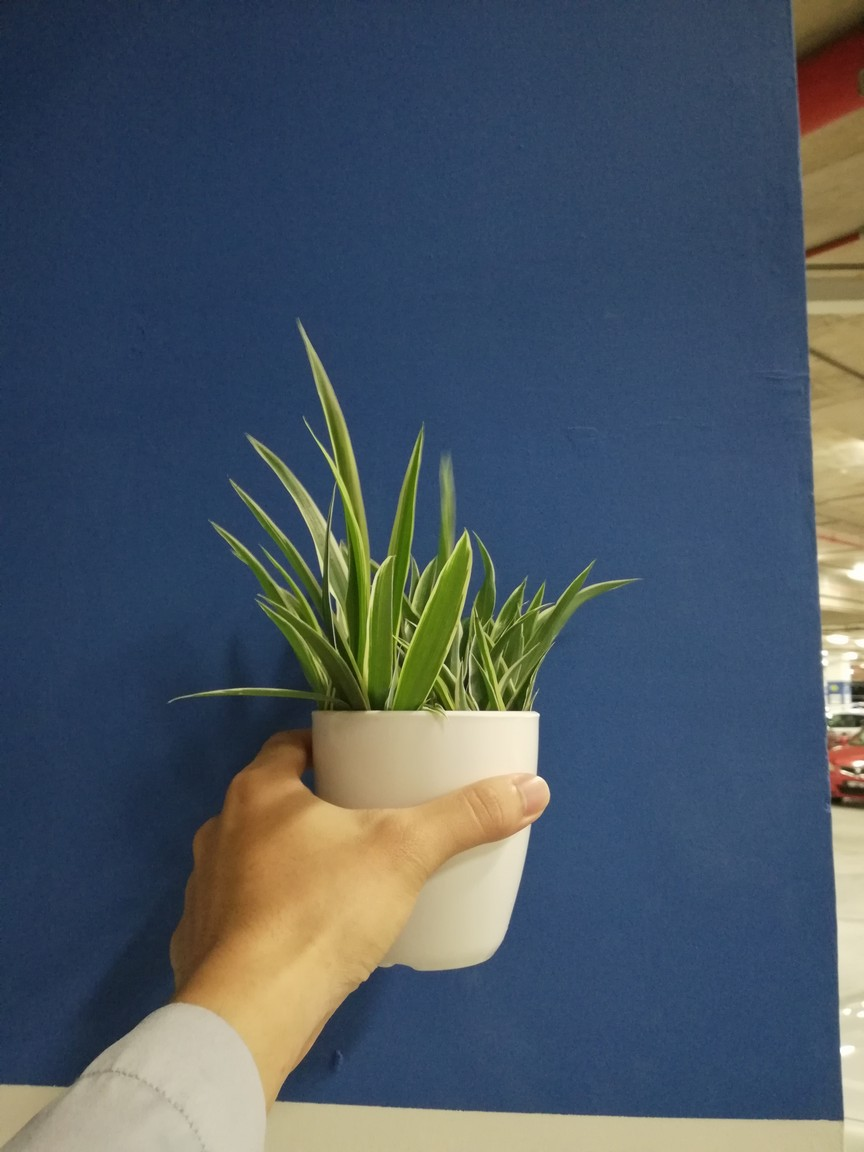daun: (293, 314, 359, 467), (388, 420, 426, 552), (245, 431, 311, 496), (371, 553, 398, 694), (208, 518, 258, 582), (166, 685, 318, 706), (226, 472, 278, 532), (435, 523, 473, 603), (321, 477, 339, 633), (439, 450, 461, 571), (555, 558, 597, 612), (302, 415, 337, 474), (578, 576, 644, 607), (471, 528, 497, 605), (500, 642, 541, 682), (257, 540, 289, 586), (502, 575, 530, 618), (255, 599, 287, 636), (259, 594, 298, 619), (408, 552, 421, 601), (455, 657, 464, 716), (531, 578, 549, 606)
